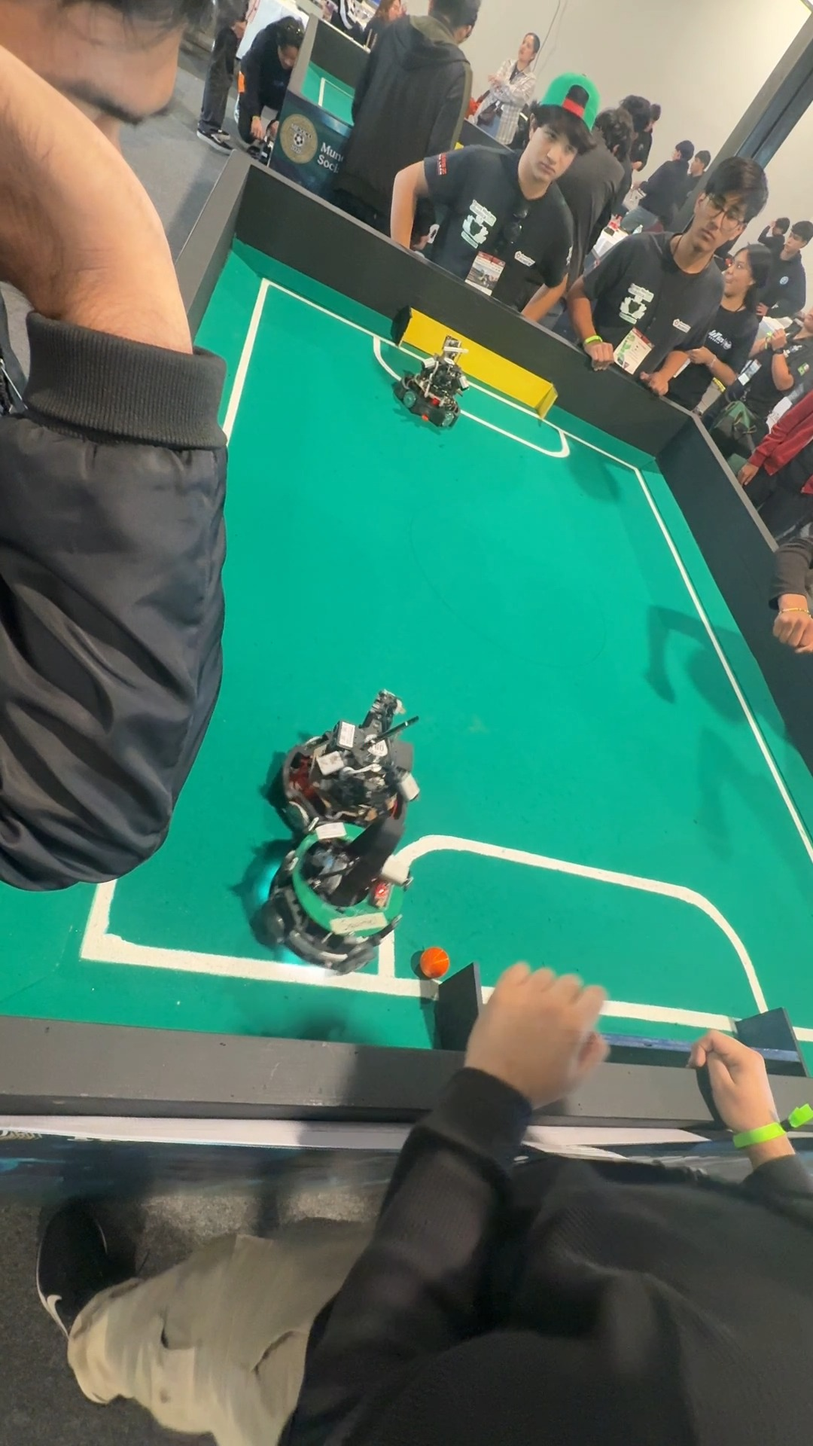Robot: (267, 817, 404, 975), (278, 684, 425, 825), (403, 328, 469, 436)
pelota: (421, 946, 452, 984)
